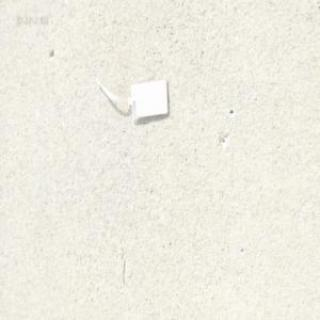LuggageTagtrack_idkeyframe: (93, 73, 169, 122)
